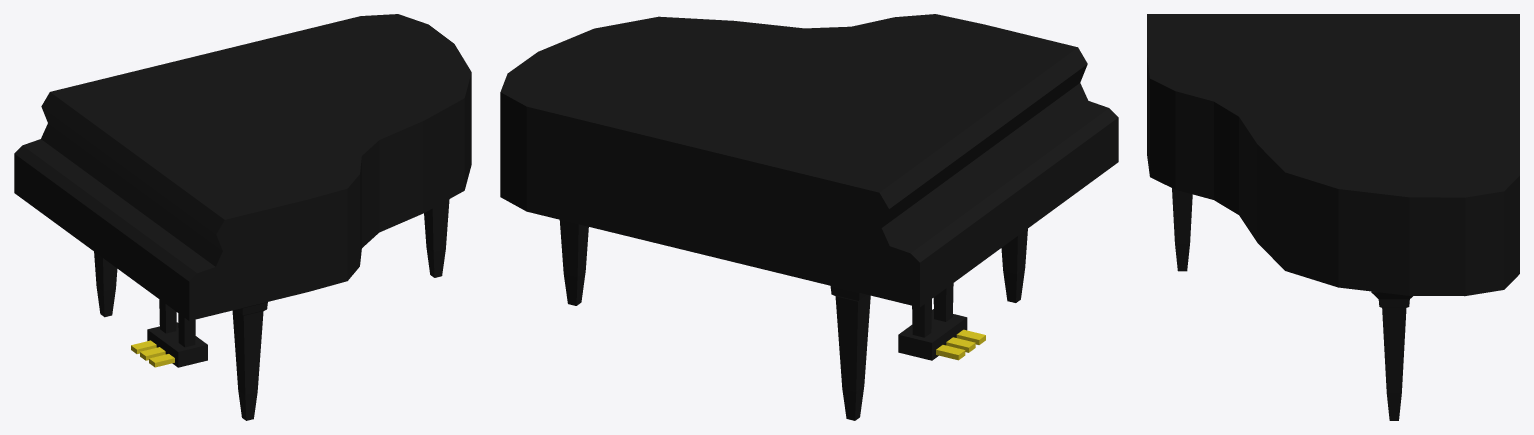
The model's file is Piano.fbx.
3 renders of one model, left to right at view 1: azimuth 30°, elevation 25°; view 2: azimuth 150°, elevation 25°; view 3: azimuth 270°, elevation 25°, orthographic. The views are drawn at different scales.
Visible parts, largest first — view 1: Piano; view 2: Piano; view 3: Piano.
Boxes of the visible parts, <box> form: Piano: <box>14,14,471,420</box>; Piano: <box>500,14,1118,420</box>; Piano: <box>1147,14,1519,420</box>.
Bounding box in the file's own units: 294 × 159 × 229.
